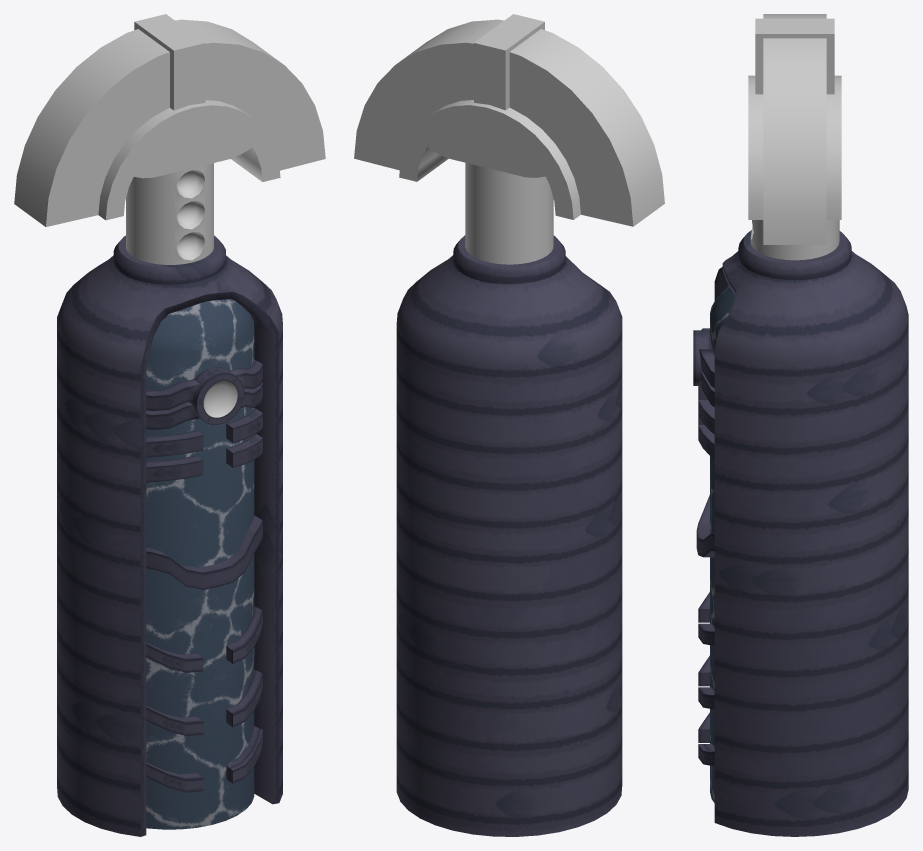
The model's file is Sunken Tomb Statue.fbx.
The picture shows the model from 3 angles, left to right: view 1: azimuth 30°, elevation 25°; view 2: azimuth 150°, elevation 25°; view 3: azimuth 270°, elevation 25°; orthographic projection.
Visible parts, largest first — view 1: Big Statue_LOD0; view 2: Big Statue_LOD0; view 3: Big Statue_LOD0.
Part boxes in pixels (box(x1,y1,x2,y2)): Big Statue_LOD0: box(14, 14, 325, 836); Big Statue_LOD0: box(354, 14, 664, 836); Big Statue_LOD0: box(693, 14, 908, 836).
Size of what is drawn, in the model's own units: 587 by 1526 by 389.
